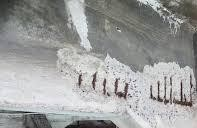Exposed reinforcement: (162, 75, 170, 107), (172, 96, 193, 107), (156, 79, 164, 103), (168, 75, 173, 106), (189, 73, 194, 103), (91, 70, 98, 91), (148, 83, 156, 101), (113, 77, 121, 94), (101, 76, 107, 96), (123, 82, 129, 100), (77, 73, 83, 89), (180, 80, 184, 101), (115, 91, 125, 98), (106, 90, 111, 98)
Spalling: (55, 46, 197, 128)
